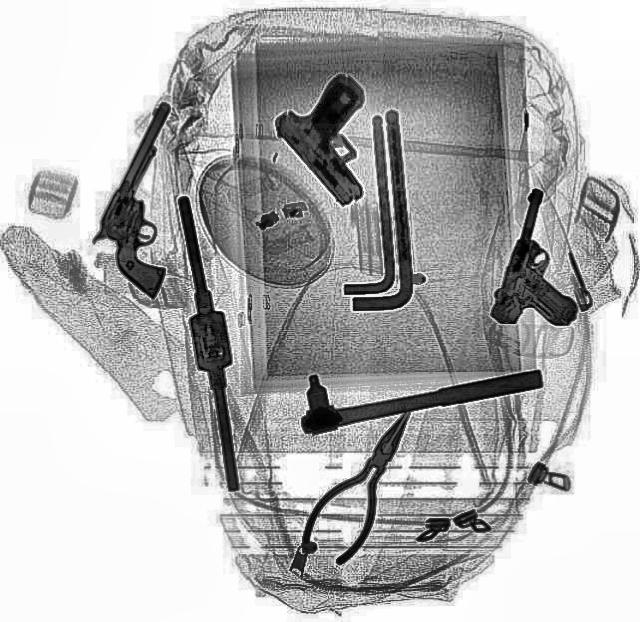Gun: (68, 97, 242, 298), (264, 64, 422, 208), (483, 184, 615, 340)
Pliers: (292, 394, 438, 568)
